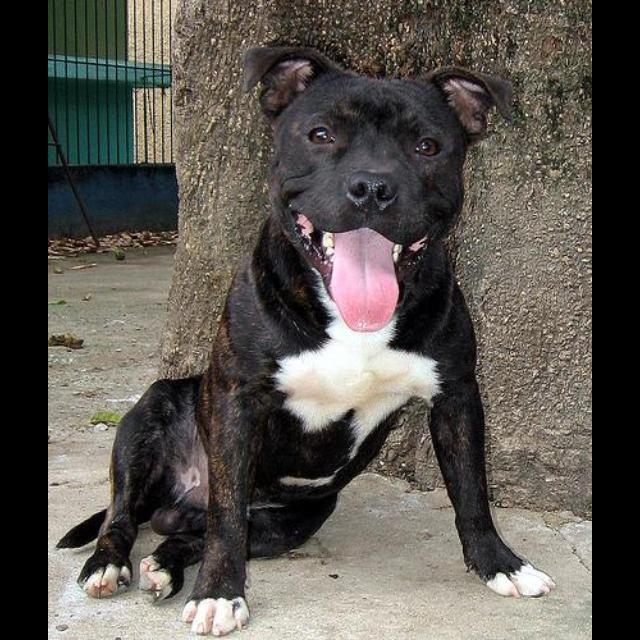amstaff: (56, 44, 557, 637)
